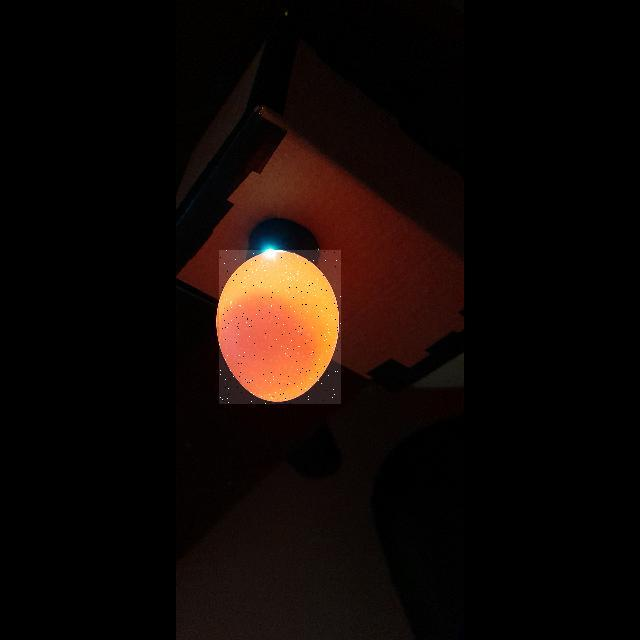A - Good: (219, 250, 341, 404)
